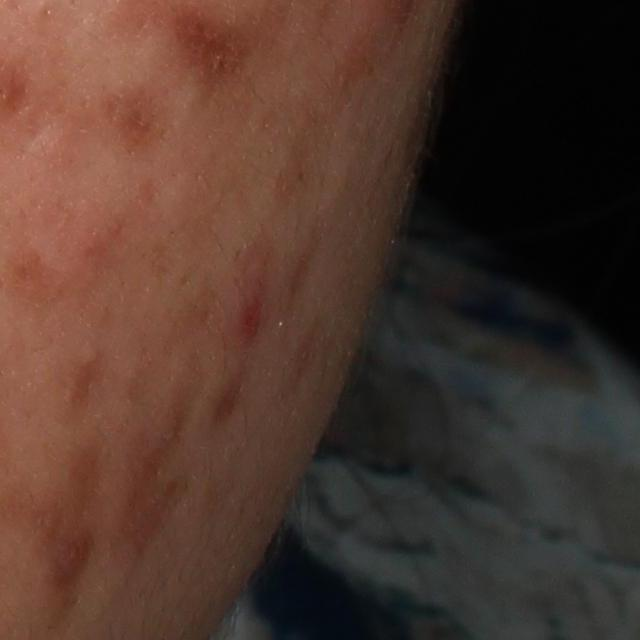papule: (223, 287, 270, 346)
